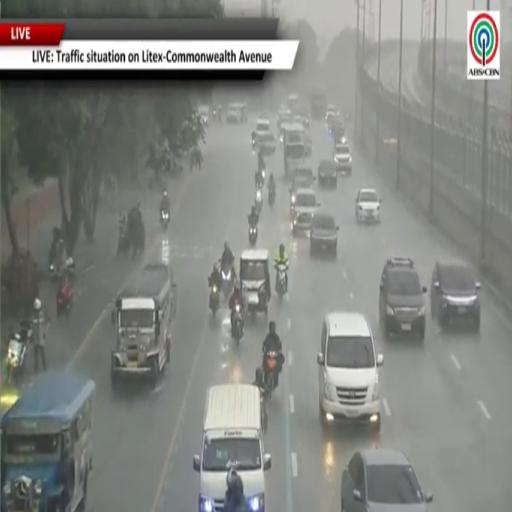car: (318, 312, 383, 430), (342, 448, 432, 511), (379, 258, 427, 340), (430, 262, 480, 331), (292, 188, 320, 235), (310, 214, 338, 257), (355, 188, 381, 222), (290, 176, 313, 214), (333, 143, 351, 174), (318, 159, 337, 188), (254, 132, 276, 156), (328, 117, 346, 143), (295, 163, 315, 185), (227, 103, 248, 123), (277, 109, 293, 132), (326, 111, 341, 132), (298, 105, 309, 127), (255, 118, 270, 134), (325, 104, 339, 121), (198, 105, 209, 125)
jeepney: (2, 372, 95, 511), (239, 249, 270, 314), (281, 123, 308, 177)
motorcycle: (6, 320, 32, 383), (49, 239, 67, 277), (56, 280, 74, 317), (264, 351, 278, 398), (232, 303, 243, 345), (117, 226, 130, 257), (221, 266, 233, 299), (276, 264, 287, 298), (209, 285, 220, 317), (254, 188, 263, 214), (248, 225, 258, 246), (161, 210, 169, 230), (255, 172, 264, 189), (268, 187, 275, 207), (252, 133, 255, 148)
truck: (111, 262, 176, 389), (282, 123, 308, 178)
